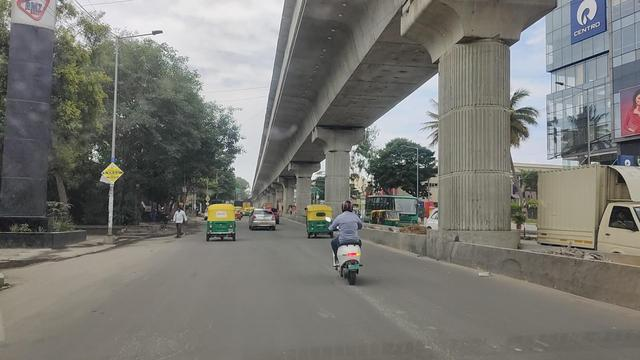LMV: (329, 195, 368, 287), (206, 203, 236, 240)
